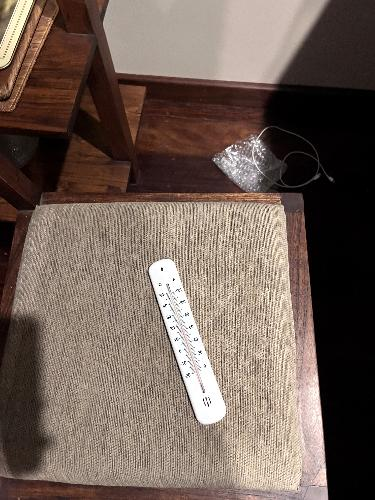thermo: (145, 255, 229, 426)
